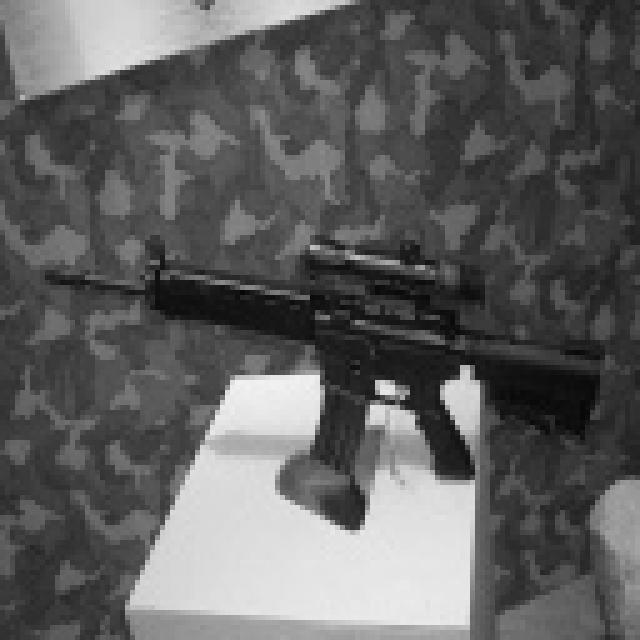Rifle: (6, 207, 628, 548)
